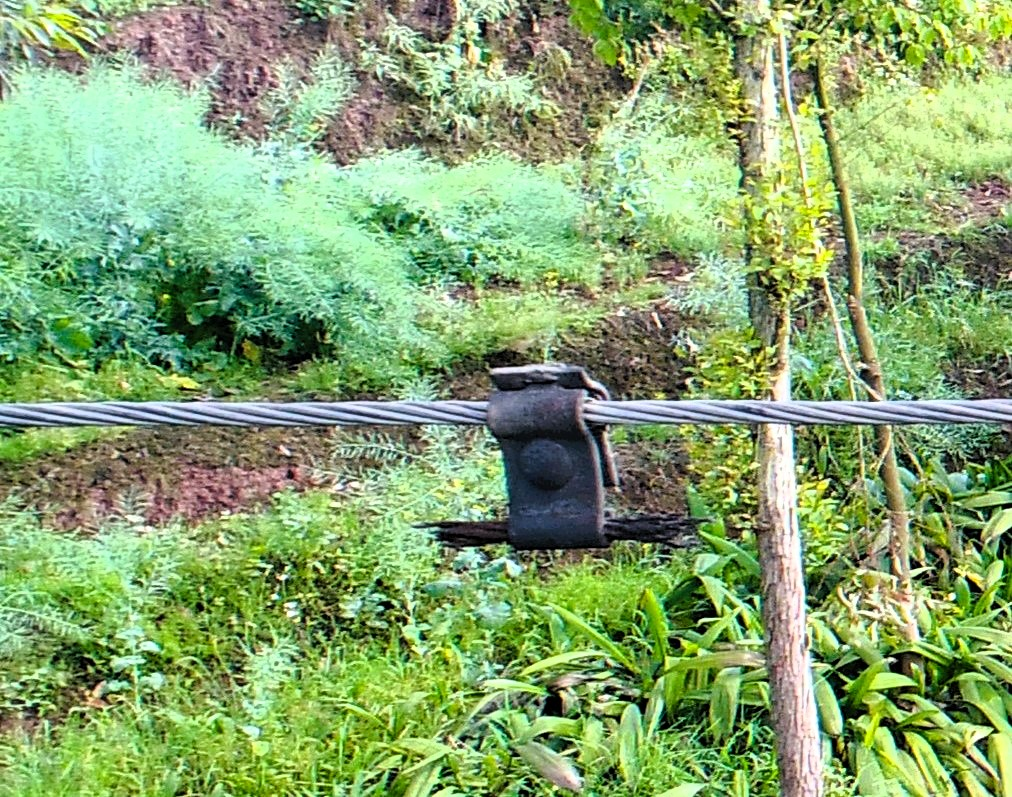Damage of shockproof hammer: (402, 337, 720, 574)
